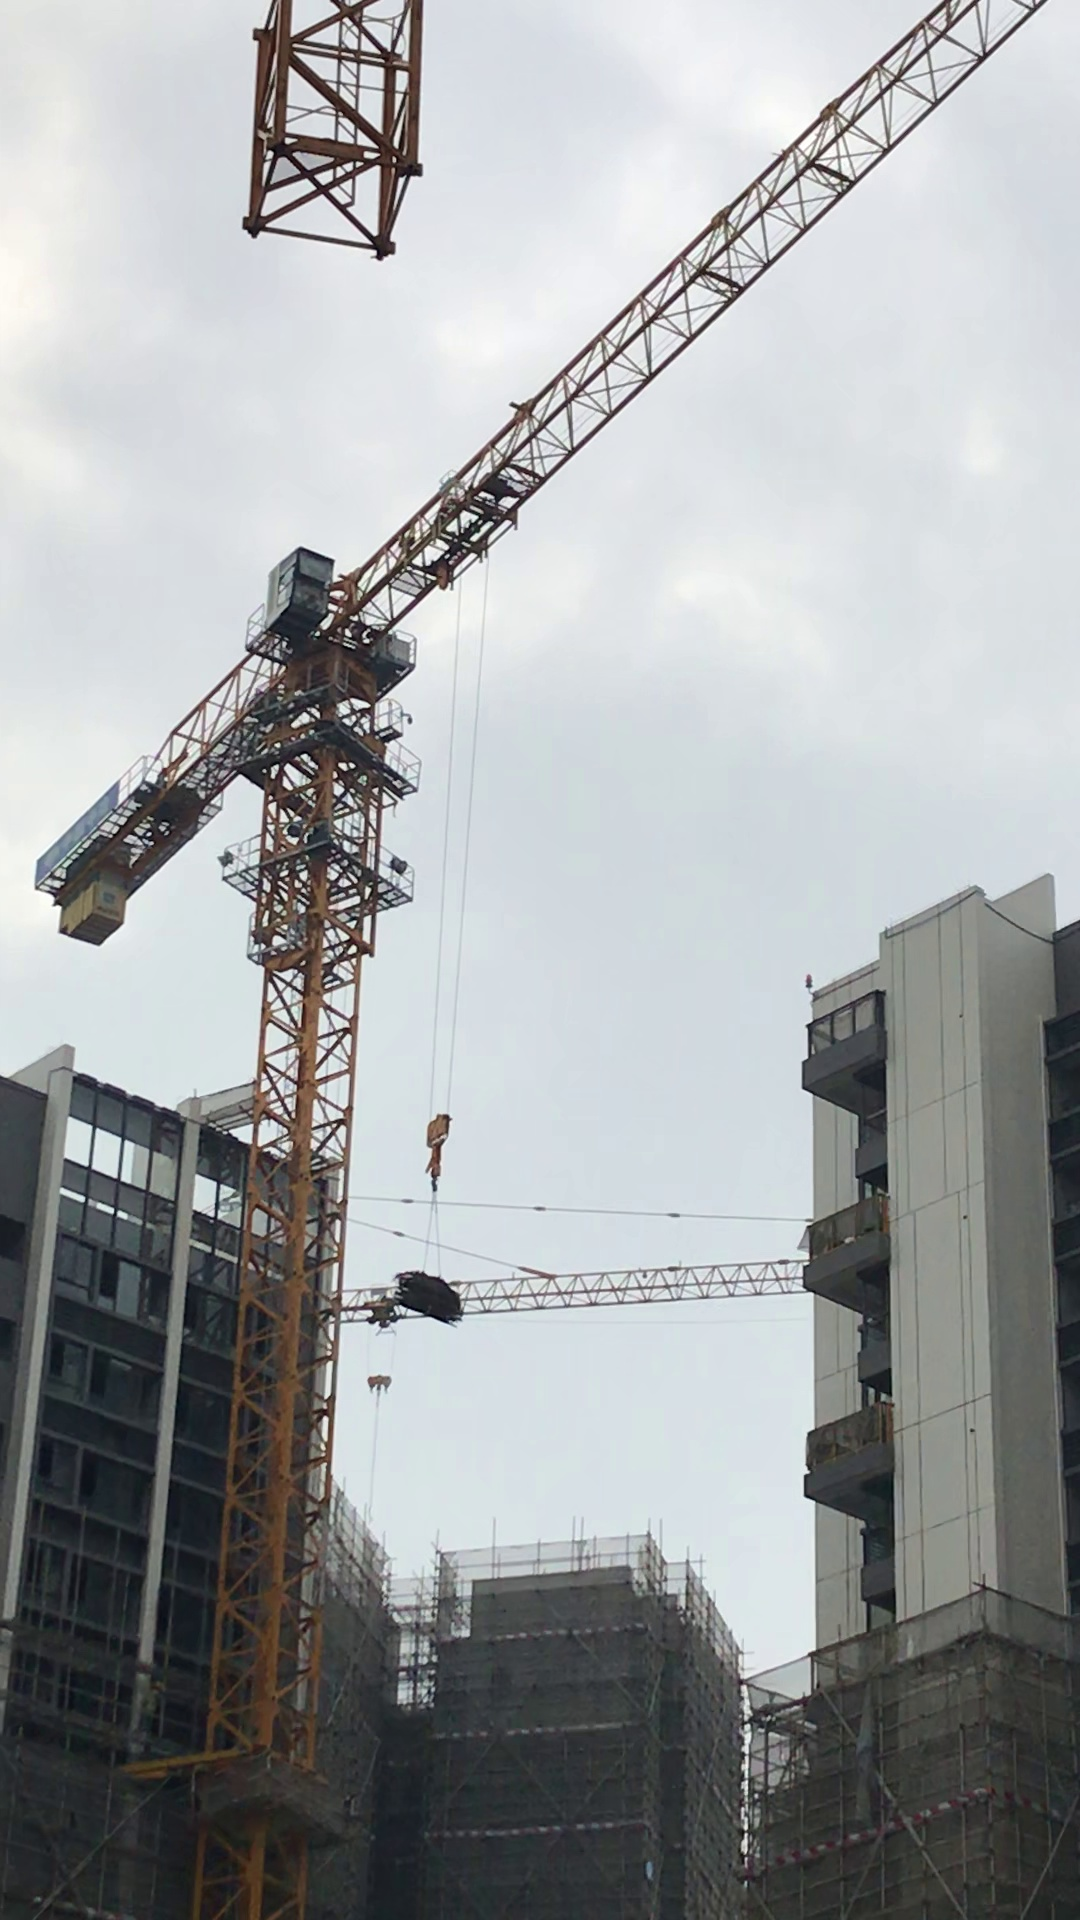board: (394, 1270, 460, 1327)
hook: (422, 1112, 454, 1193), (367, 1370, 394, 1396)
